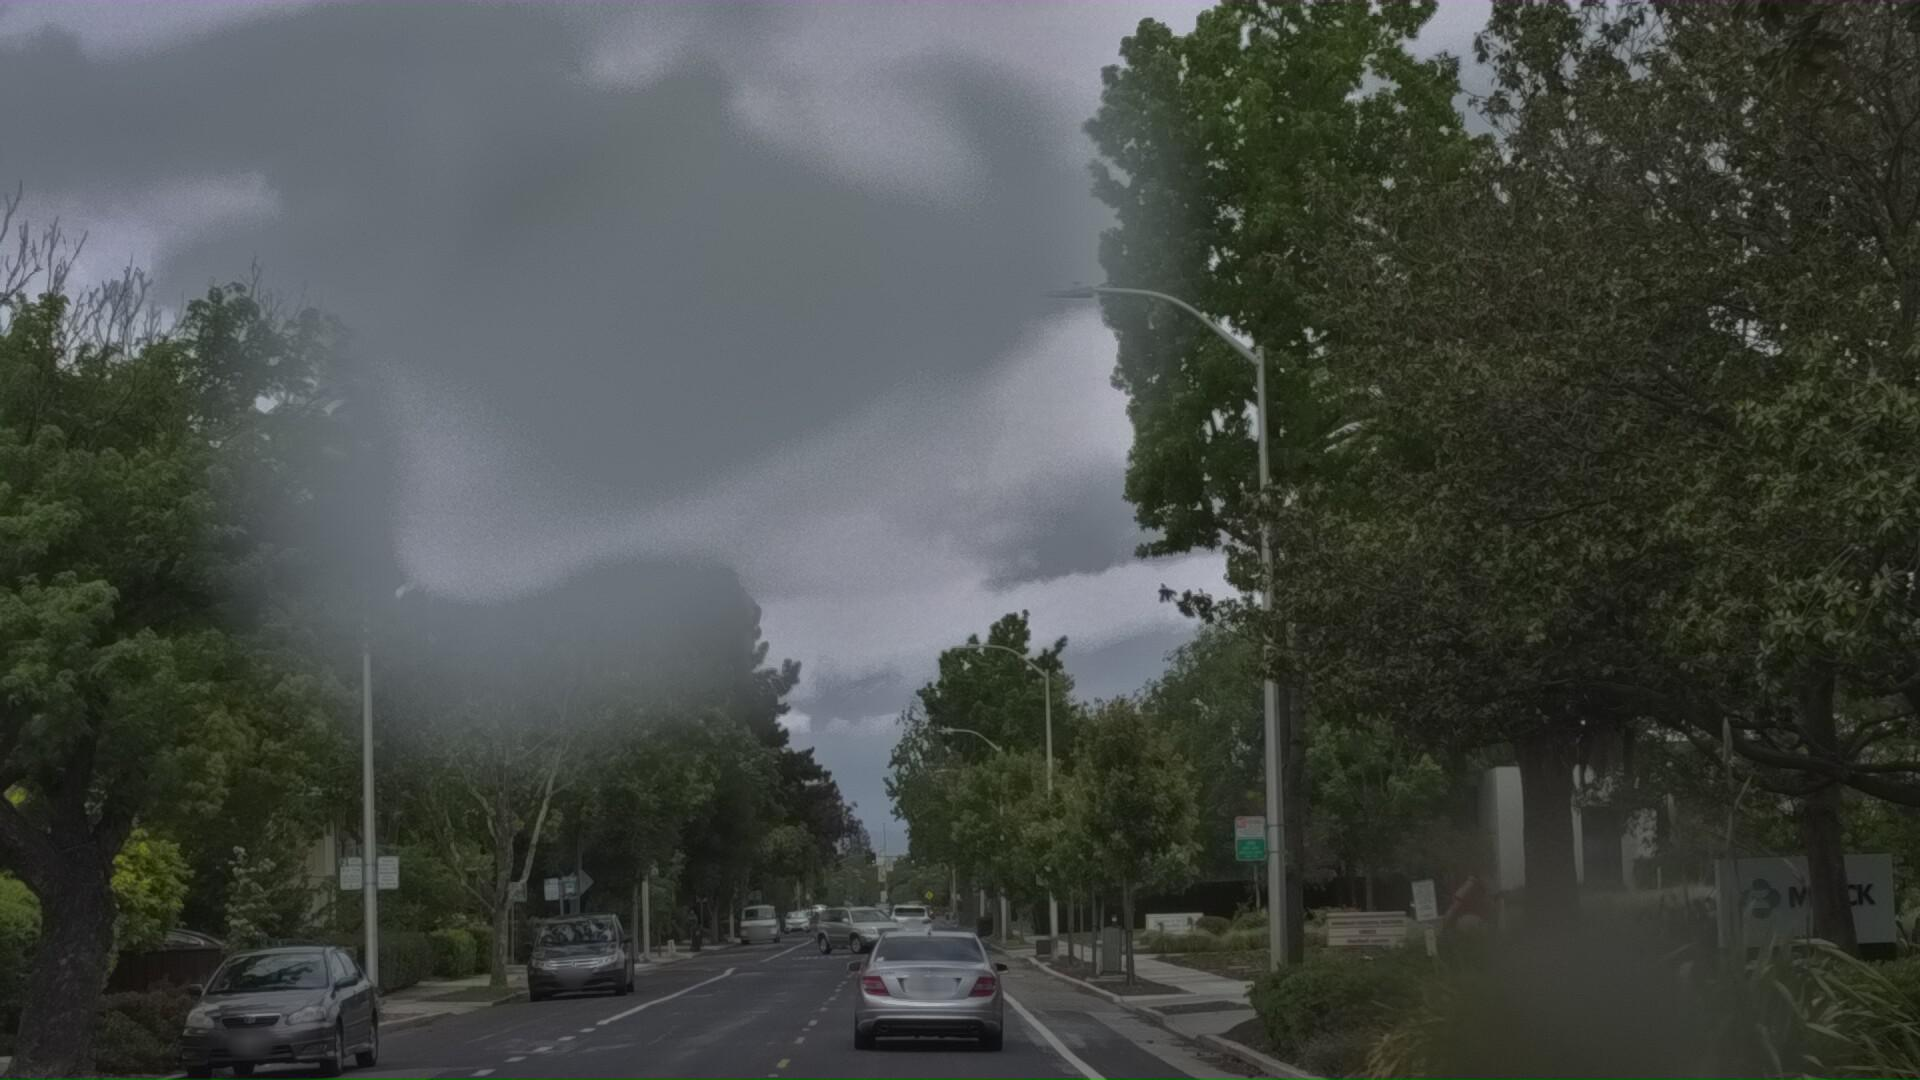car: (189, 963, 407, 1080), (848, 949, 1013, 1080), (545, 931, 659, 1026)
